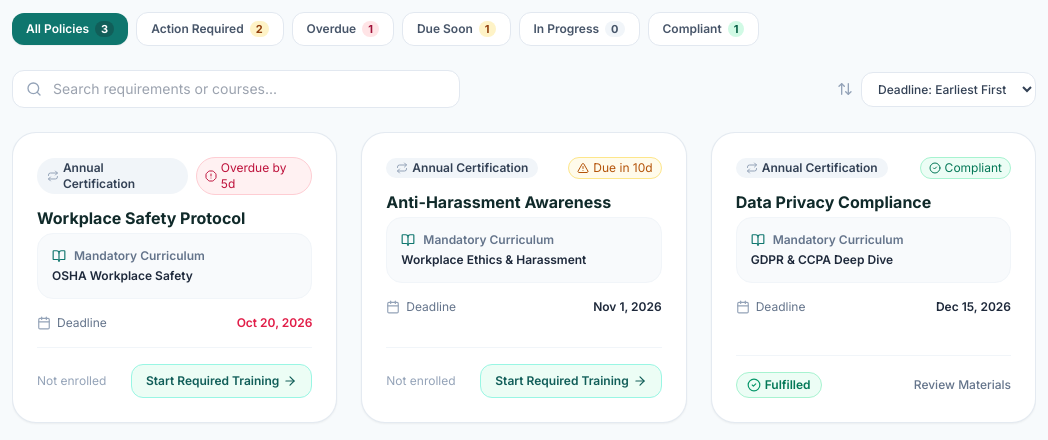
Scenario: Compliance Component Library › ComplianceRequirementList › filters assignments by search input query
This screenshot has width=1048, height=440.
Type "Safety" into the field with test id "compliance-search-input" at [236, 89], box [12, 70, 460, 108]
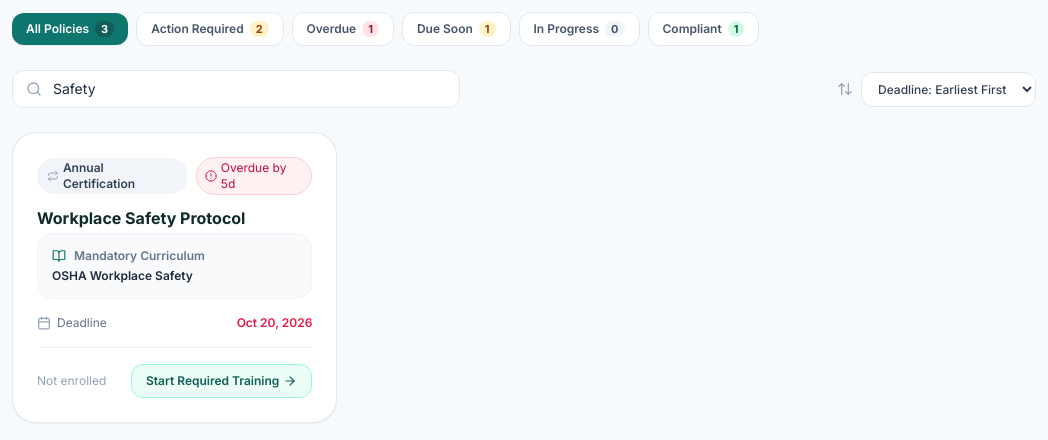
Expected: the heading "Workplace Safety Protocol" is shown, [37, 208, 246, 228]
Result: the heading "Anti-Harassment Awareness" is gone
